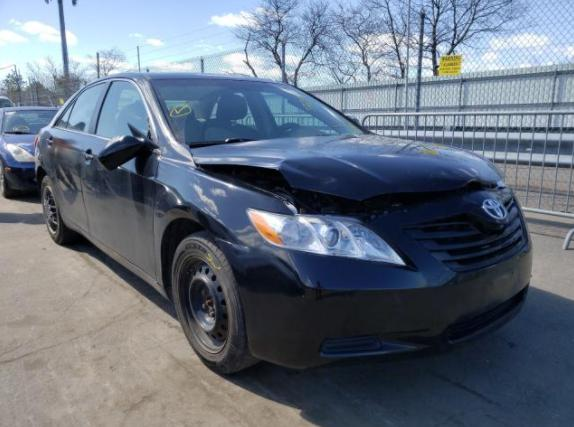Back-door: (43, 82, 109, 235)
Back-wheel: (41, 175, 77, 244)
Back-window: (58, 84, 101, 132)
Fender: (152, 149, 298, 288)
Front-bumper: (215, 187, 532, 371)
Front-door: (82, 78, 159, 282)
Front-wheel: (170, 232, 259, 372)
Front-window: (97, 82, 148, 137)
Grille: (408, 195, 526, 273)
Headlight: (249, 208, 417, 272)
Hood: (192, 135, 506, 201)
Mirror: (97, 124, 158, 170)
Quarter-panel: (34, 127, 53, 181)
Rocker-panel: (61, 207, 168, 300)
Roof: (134, 69, 278, 81)
Windshield: (151, 79, 368, 148)
